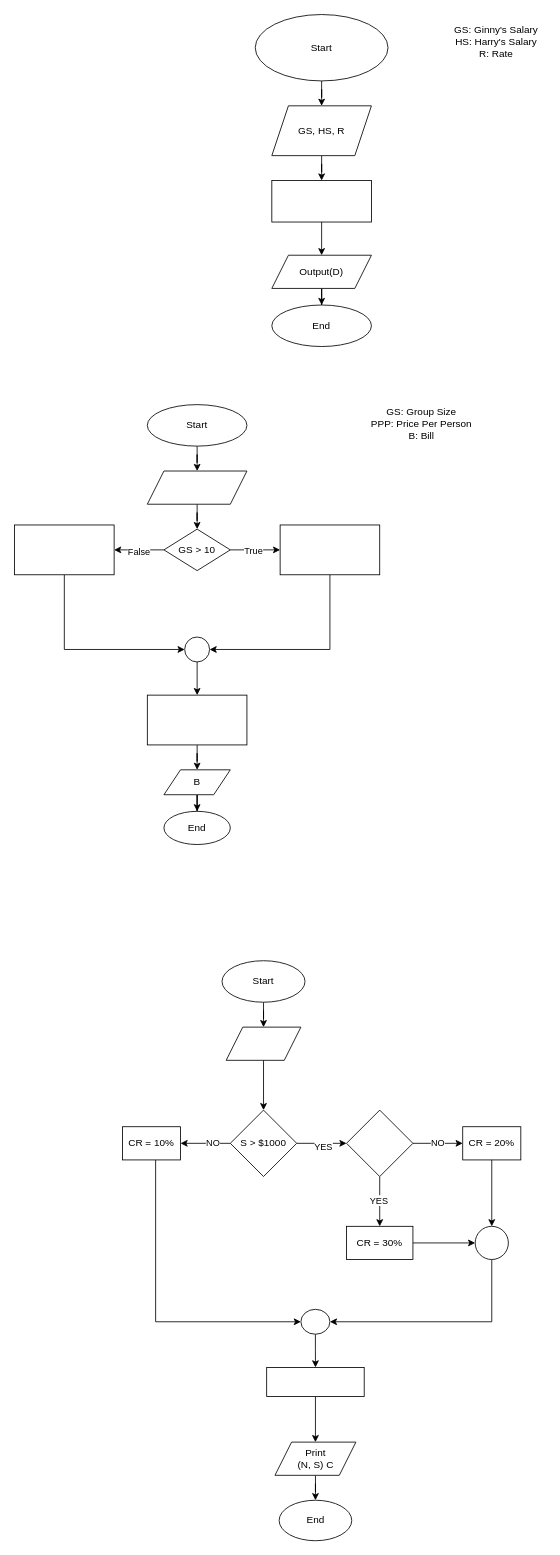
Some shapes in this 560 by 1555 pixel diagram are drawn without their labels. The shapes that lost their labels are listed below. From the top down, each one's centre as x and y in pixels, then its label:
At pixel 321 201: "D = (GS + HS) * R".
At pixel 196 487: "GS".
At pixel 64 549: "PPP = $85".
At pixel 329 549: "PPP = $75".
At pixel 196 719: "B = GS * PPP".
At pixel 263 1043: "N, S".
At pixel 379 1143: "S > $5000".
At pixel 315 1381: "C = S*CR".
